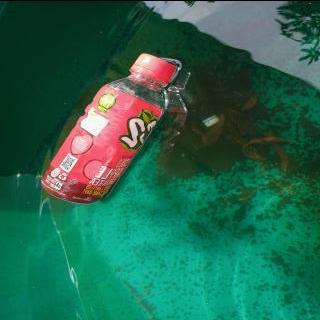bottle: (40, 51, 178, 204)
